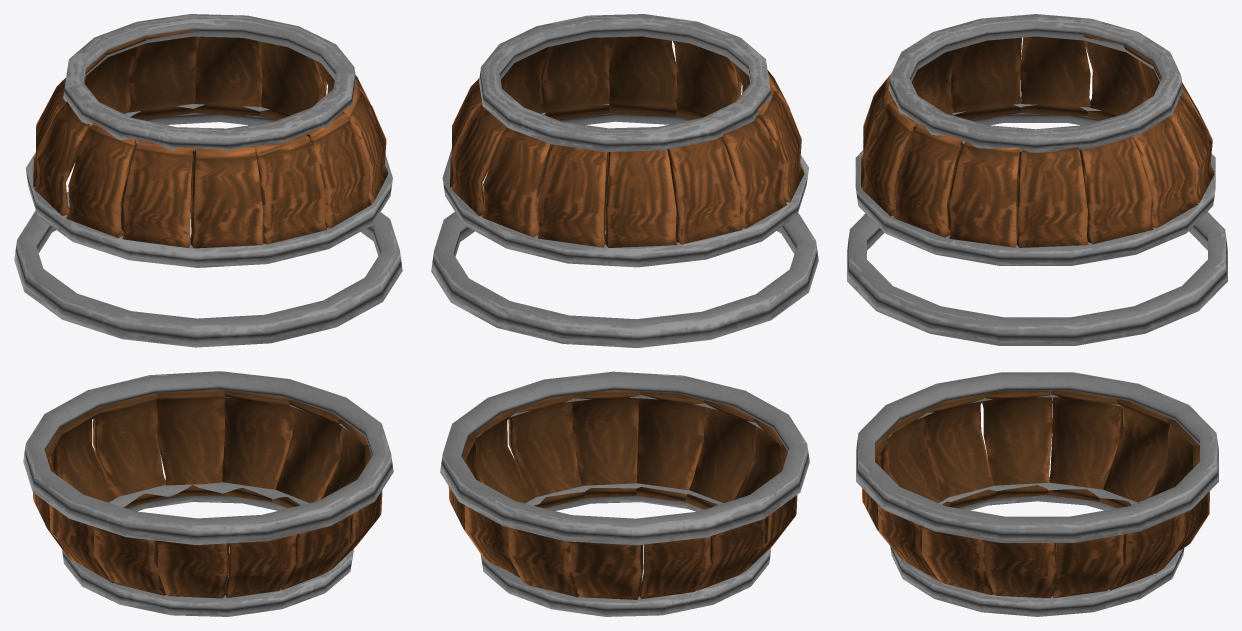
The model's file is MidasMachineHolder.fbx.
3 views of the same model, side by side, from view 1: azimuth 30°, elevation 25°; view 2: azimuth 150°, elevation 25°; view 3: azimuth 270°, elevation 25° (orthographic).
Visible parts, largest first — view 1: plank.005; view 2: plank.005; view 3: plank.005.
Boxes of the visible parts, x1,y1,x2,y2 form: plank.005: (14,14,402,616); plank.005: (431,14,818,616); plank.005: (847,14,1227,616).
Bounding box in the file's own units: 342 × 476 × 342.
